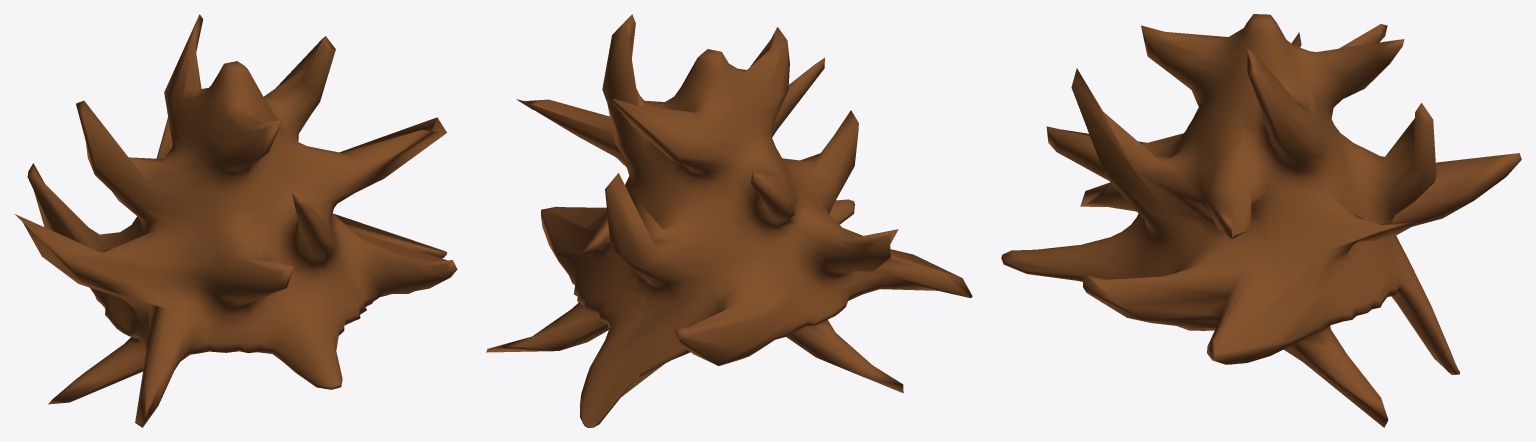
Rendered from tree.glb.
3 renders of one model, left to right at view 1: azimuth 30°, elevation 25°; view 2: azimuth 150°, elevation 25°; view 3: azimuth 270°, elevation 25°, orthographic. The views are drawn at different scales.
Parts seen in each view (by area): view 1: Cone; view 2: Cone; view 3: Cone.
Part boxes in pixels (x1,y1,x2,y2): Cone: [15, 14, 457, 427]; Cone: [486, 14, 972, 427]; Cone: [1001, 14, 1521, 427].
Bounding box in the file's own units: 3.35 × 2.6 × 3.46.
